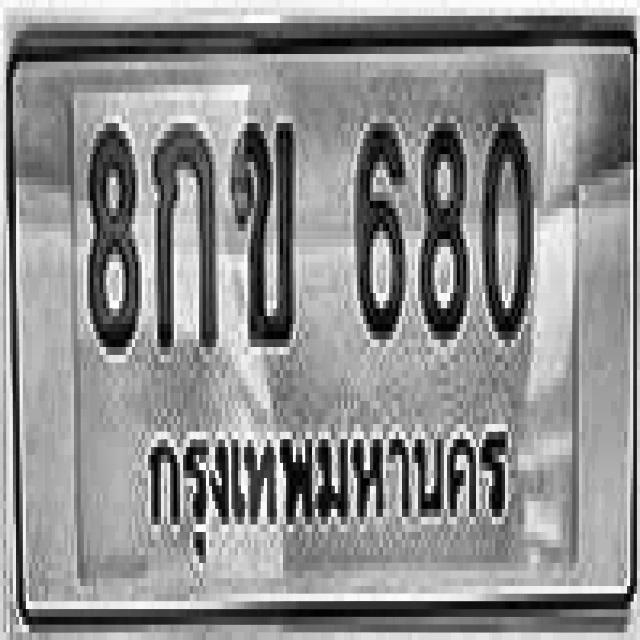license-plate: (7, 47, 635, 607)
